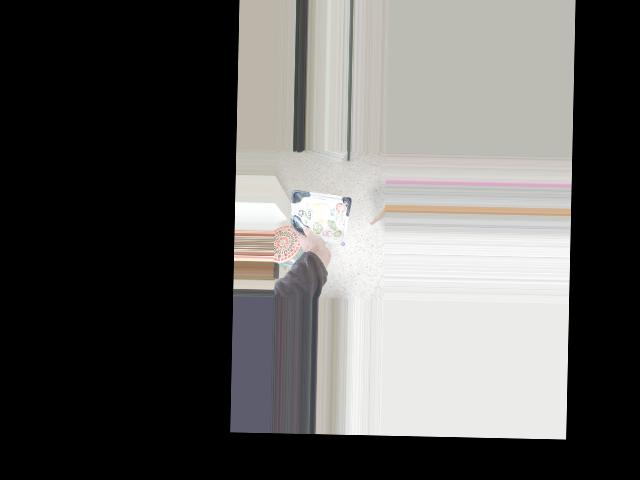cheese: (298, 207, 350, 254)
